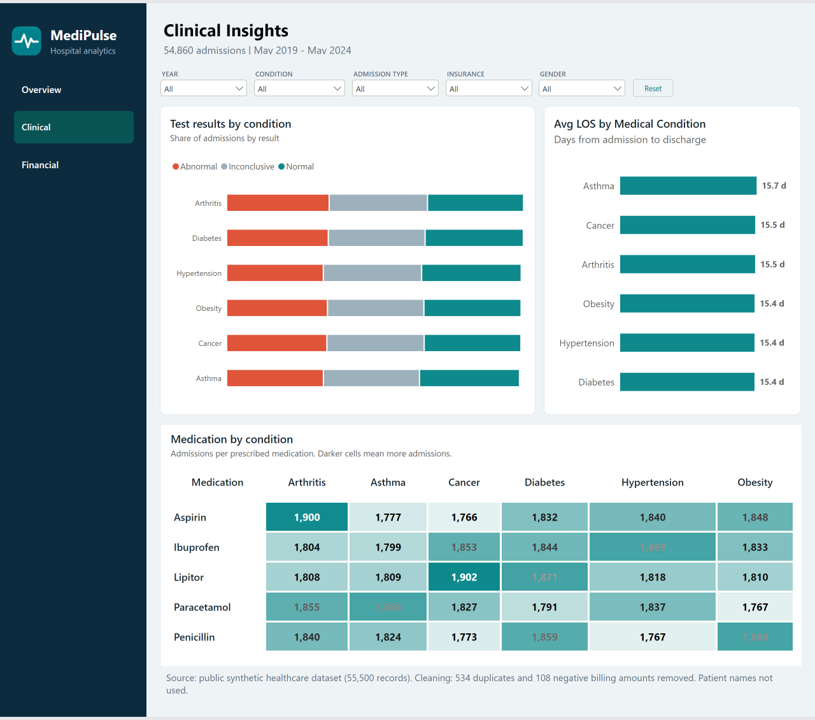

What the dashboard file says about the page in this screenshot:
{"tool":"powerbi","page":{"name":"Clinical","canvas":[1280,1120],"ordinal":1},"visuals":[{"type":"textbox","box":[247,15,489,53],"z":0,"group":"g1"},{"type":"image","box":[8.9,27.9,66,62],"z":0,"group":"g7"},{"type":"slicer","title":"YEAR","fields":{"Values":["Dim_Date.Year"]},"box":[247.5,115,146,37],"z":0,"group":"g2"},{"type":"slicer","title":"YEAR","fields":{"Values":["Fact_Admissions.Medical Condition"]},"box":[394.2,115,153,37],"z":0,"group":"g3"},{"type":"slicer","title":"YEAR","fields":{"Values":["Fact_Admissions.Admission Type"]},"box":[548,115,146,37],"z":0,"group":"g4"},{"type":"slicer","title":"YEAR","fields":{"Values":["Fact_Admissions.Insurance Provider"]},"box":[694.7,115,146,37],"z":0,"group":"g5"},{"type":"slicer","title":"YEAR","fields":{"Values":["Fact_Admissions.Gender"]},"box":[841.5,115,146,37],"z":0,"group":"g6"},{"type":"shape","title":"Test results by condition","box":[251.1,161.2,590,485.7],"z":0},{"type":"shape","box":[0,0,230,1330],"z":1000},{"type":"textbox","box":[69.4,26.7,152.9,64.4],"z":1000,"group":"g7"},{"type":"textbox","box":[247.2,54.3,492.5,26.2],"z":1000,"group":"g1"},{"type":"textbox","box":[254.3,99,132.3,20.7],"z":1000,"group":"g2"},{"type":"textbox","box":[401.4,99,138.7,20.7],"z":1000,"group":"g3"},{"type":"textbox","box":[554.8,99,132.3,20.7],"z":1000,"group":"g4"},{"type":"textbox","box":[701.5,99,132.3,20.7],"z":1000,"group":"g5"},{"type":"textbox","box":[848.3,99,132.3,20.7],"z":1000,"group":"g6"},{"type":"group","id":"g1","title":"Group 1","box":[247,15,492.7,65.5],"z":2000},{"type":"group","id":"g2","title":"Group 2","box":[247.5,99,146,53],"z":3000},{"type":"group","id":"g3","title":"Group 2","box":[394.2,99,153,53],"z":4000},{"type":"group","id":"g4","title":"Group 2","box":[548,99,146,53],"z":5000},{"type":"group","id":"g5","title":"Group 2","box":[694.7,99,146,53],"z":6000},{"type":"group","id":"g6","title":"Group 2","box":[841.5,99,146,53],"z":7000},{"type":"actionButton","box":[992.7,118.2,65.5,30],"z":8000},{"type":"group","id":"g7","title":"Group 3","box":[8.9,26.7,213.3,64.4],"z":9000},{"type":"barChart","fields":{"Category":["Fact_Admissions.Medical Condition"],"Series":["Fact_Admissions.Test Results"],"Y":["Measures Table.Admissions"]},"box":[259.7,232.7,571.4,400],"z":10000},{"type":"clusteredBarChart","fields":{"Category":["Fact_Admissions.Medical Condition"],"Y":["Measures Table.Avg LOS"]},"box":[854.4,161.1,404.4,485.6],"z":11000},{"type":"pivotTable","title":"Medication by condition","fields":{"Columns":["Fact_Admissions.Medical Condition"],"Rows":["Fact_Admissions.Medication"],"Values":["Measures Table.Admissions"]},"box":[253.3,662.2,1005.6,377.8],"z":12000},{"type":"pageNavigator","box":[12,102,208,187],"z":13000},{"type":"textbox","box":[251.1,1040,1007.8,62.2],"z":13001}]}

Visuals, with their boxes on the page's 1280x1120 design canvas (x1, y1, x2, y2). These are canvas units, not pixel positions in the 815x720 screenshot, which may show the page scaled, cropped or inside an application window:
textbox: (247, 15, 736, 68)
image: (9, 28, 75, 90)
"YEAR" slicer: (248, 115, 394, 152)
"YEAR" slicer: (394, 115, 547, 152)
"YEAR" slicer: (548, 115, 694, 152)
"YEAR" slicer: (695, 115, 841, 152)
"YEAR" slicer: (842, 115, 988, 152)
"Test results by condition" shape: (251, 161, 841, 647)
shape: (0, 0, 230, 1330)
textbox: (69, 27, 222, 91)
textbox: (247, 54, 740, 80)
textbox: (254, 99, 387, 120)
textbox: (401, 99, 540, 120)
textbox: (555, 99, 687, 120)
textbox: (702, 99, 834, 120)
textbox: (848, 99, 981, 120)
"Group 1" group: (247, 15, 740, 80)
"Group 2" group: (248, 99, 394, 152)
"Group 2" group: (394, 99, 547, 152)
"Group 2" group: (548, 99, 694, 152)
"Group 2" group: (695, 99, 841, 152)
"Group 2" group: (842, 99, 988, 152)
actionButton: (993, 118, 1058, 148)
"Group 3" group: (9, 27, 222, 91)
barChart - Fact_Admissions.Medical Condition x Fact_Admissions.Test Results: (260, 233, 831, 633)
clusteredBarChart - Fact_Admissions.Medical Condition x Measures Table.Avg LOS: (854, 161, 1259, 647)
"Medication by condition" pivotTable: (253, 662, 1259, 1040)
pageNavigator: (12, 102, 220, 289)
textbox: (251, 1040, 1259, 1102)
